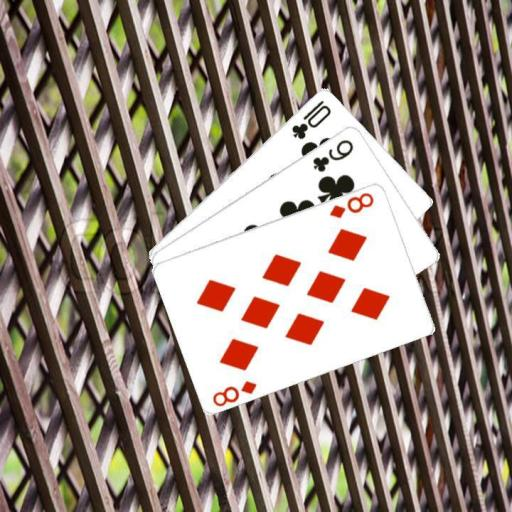card-corner: (288, 97, 333, 141), (309, 136, 355, 173), (326, 188, 376, 220), (209, 377, 259, 407)
